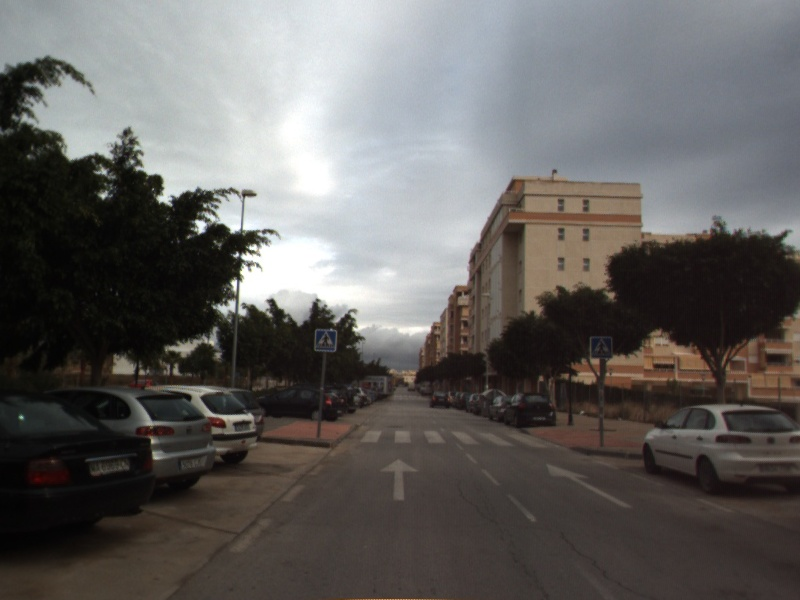STRAIGHT: (545, 462, 634, 509), (378, 457, 421, 502)
